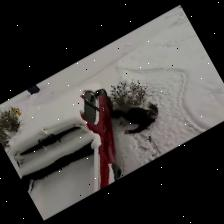person: (112, 103, 157, 134)
